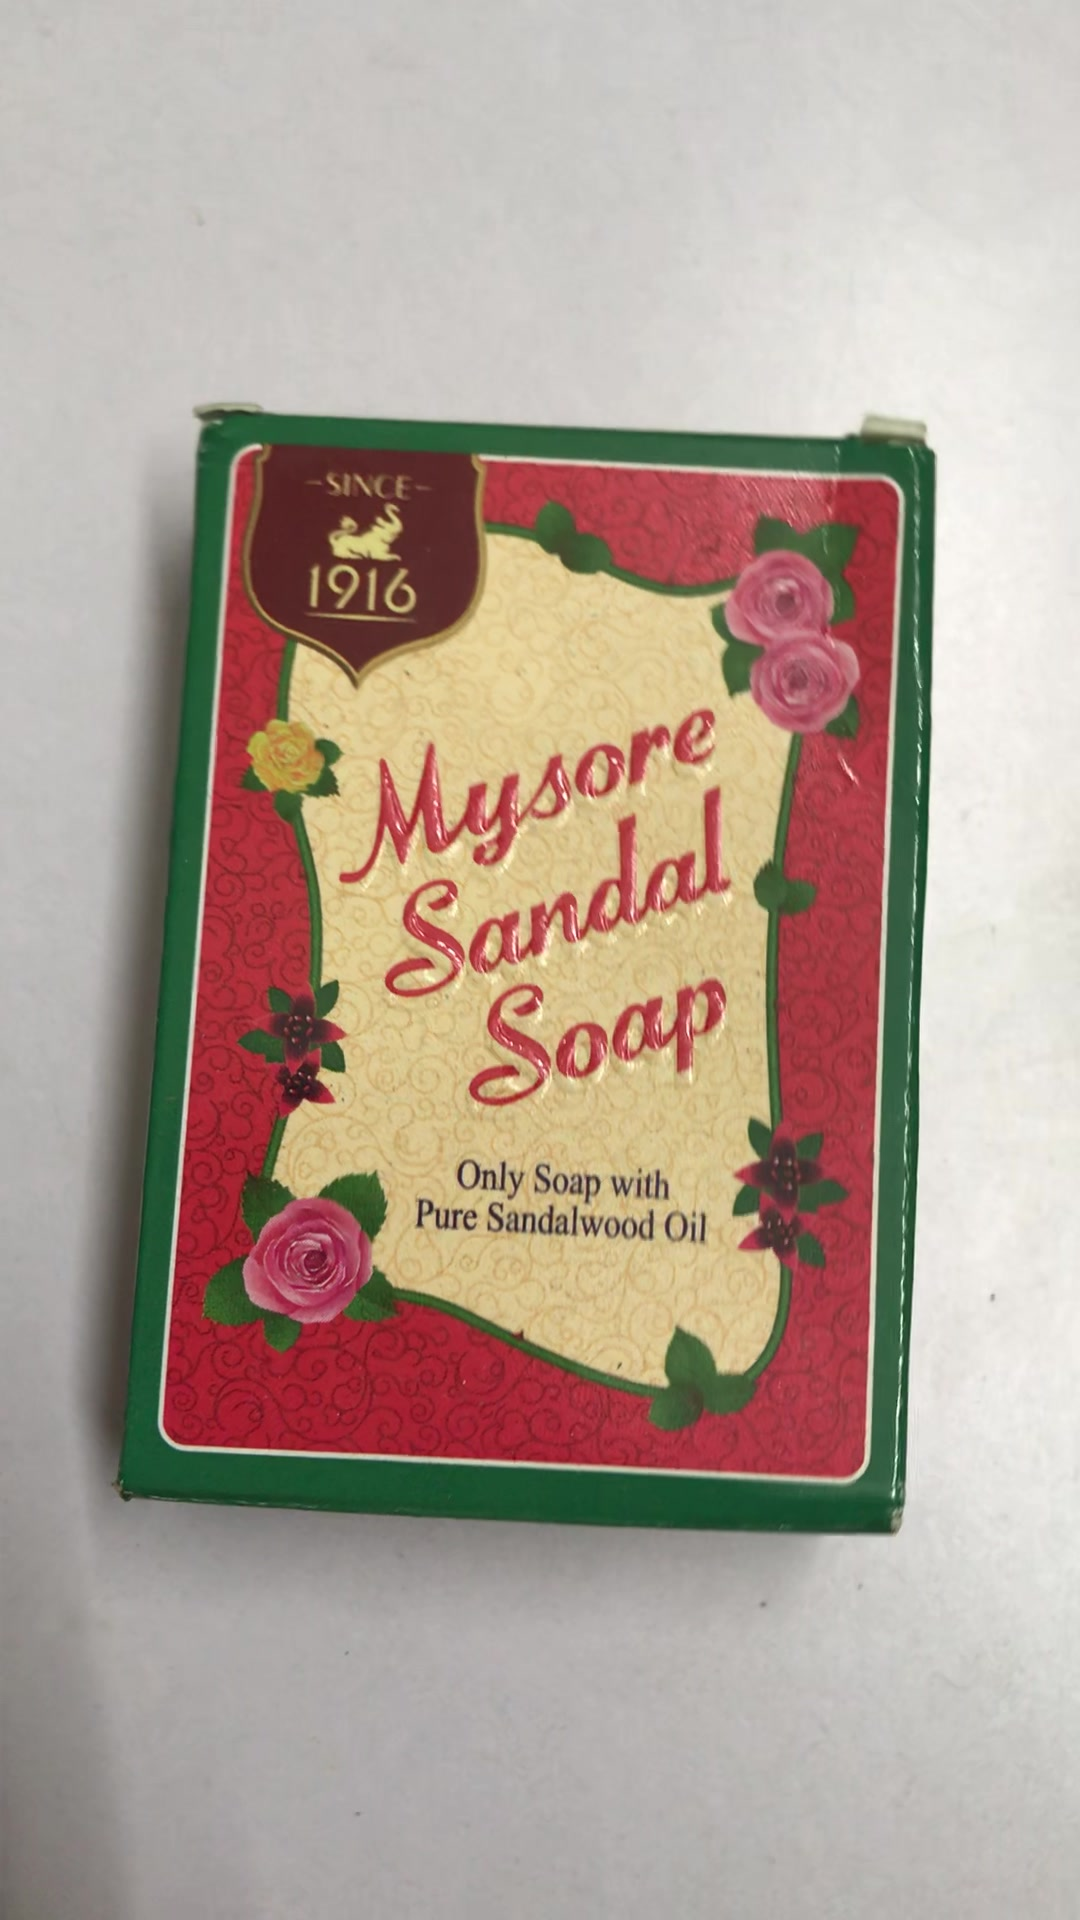mysore sandal soap: (124, 394, 938, 1536)
